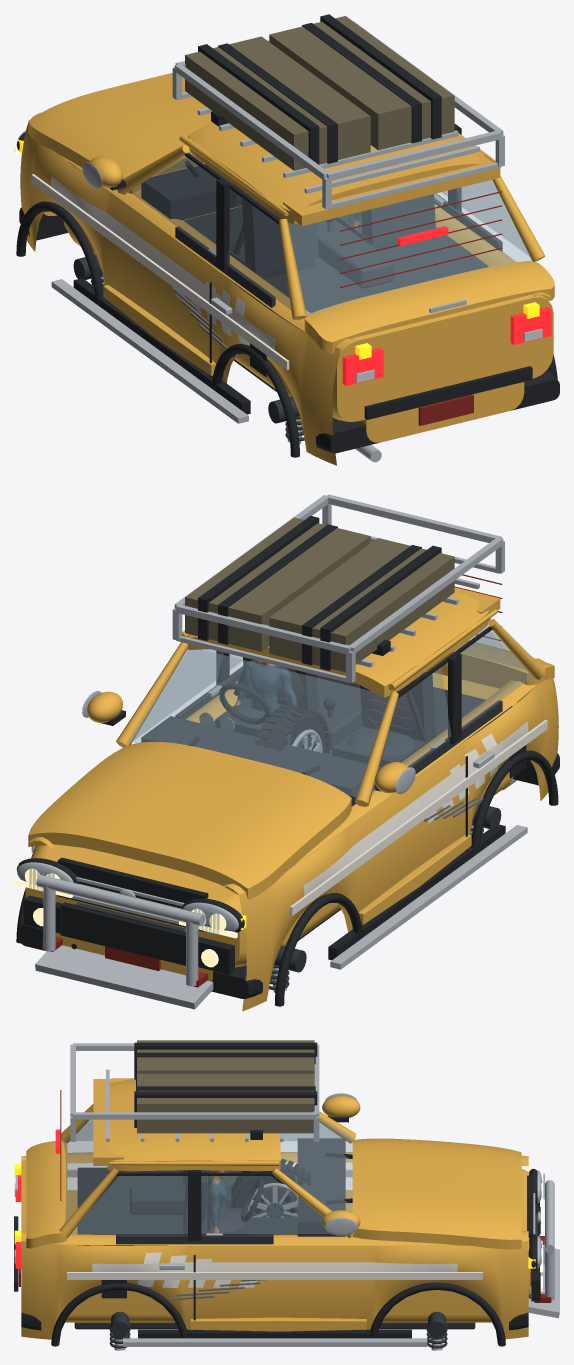
The model's file is dzo-hatch.glb.
3 renders of one model, top to bottom at view 1: azimuth 30°, elevation 25°; view 2: azimuth 150°, elevation 25°; view 3: azimuth 270°, elevation 25°, orthographic. The views are drawn at different scales.
Parts seen in each view (by area): view 1: body_high, body_low, cosmetic_carrier (×2), cosmetic_basket, cosmetic_trail (×2), cosmetic_stripe (×2), cosmetic_summit; view 2: body_high, body_low, cosmetic_carrier (×2), cosmetic_trail (×2), cosmetic_basket, cosmetic_stripe (×2), wheel_high, cosmetic_summit; view 3: body_high, body_low, cosmetic_carrier (×2), cosmetic_trail (×2), cosmetic_basket, cosmetic_stripe (×2), cosmetic_summit, wheel_high, rim_touring, rim_steel, damage_group, wheel_low.
Boxes of the visible parts, bbox=[...] form: body_high: bbox=[14, 73, 559, 465]; body_low: bbox=[17, 112, 551, 463]; cosmetic_carrier (×2): bbox=[185, 14, 454, 170]; cosmetic_basket: bbox=[172, 21, 504, 209]; cosmetic_trail (×2): bbox=[51, 279, 248, 423]; cosmetic_stripe (×2): bbox=[50, 176, 275, 349]; cosmetic_summit: bbox=[173, 267, 249, 345]; body_high: bbox=[14, 574, 559, 1011]; body_low: bbox=[17, 587, 557, 1009]; cosmetic_carrier (×2): bbox=[185, 516, 454, 672]; cosmetic_trail (×2): bbox=[35, 825, 527, 1009]; cosmetic_basket: bbox=[172, 494, 504, 682]; cosmetic_stripe (×2): bbox=[303, 721, 528, 895]; wheel_high: bbox=[254, 704, 330, 753]; cosmetic_summit: bbox=[420, 733, 499, 822]; body_high: bbox=[14, 1078, 550, 1350]; body_low: bbox=[14, 1079, 551, 1345]; cosmetic_carrier (×2): bbox=[134, 1040, 317, 1133]; cosmetic_trail (×2): bbox=[123, 1180, 559, 1346]; cosmetic_basket: bbox=[70, 1043, 319, 1141]; cosmetic_stripe (×2): bbox=[92, 1262, 457, 1271]; cosmetic_summit: bbox=[137, 1252, 262, 1287]; wheel_high: bbox=[231, 1159, 310, 1215]; rim_touring: bbox=[248, 1183, 296, 1217]; rim_steel: bbox=[252, 1184, 297, 1216]; damage_group: bbox=[155, 1282, 259, 1301]; wheel_low: bbox=[234, 1171, 304, 1207].
Size of what is drawn, in the model's own units: 2.11 by 1.93 by 3.88.
